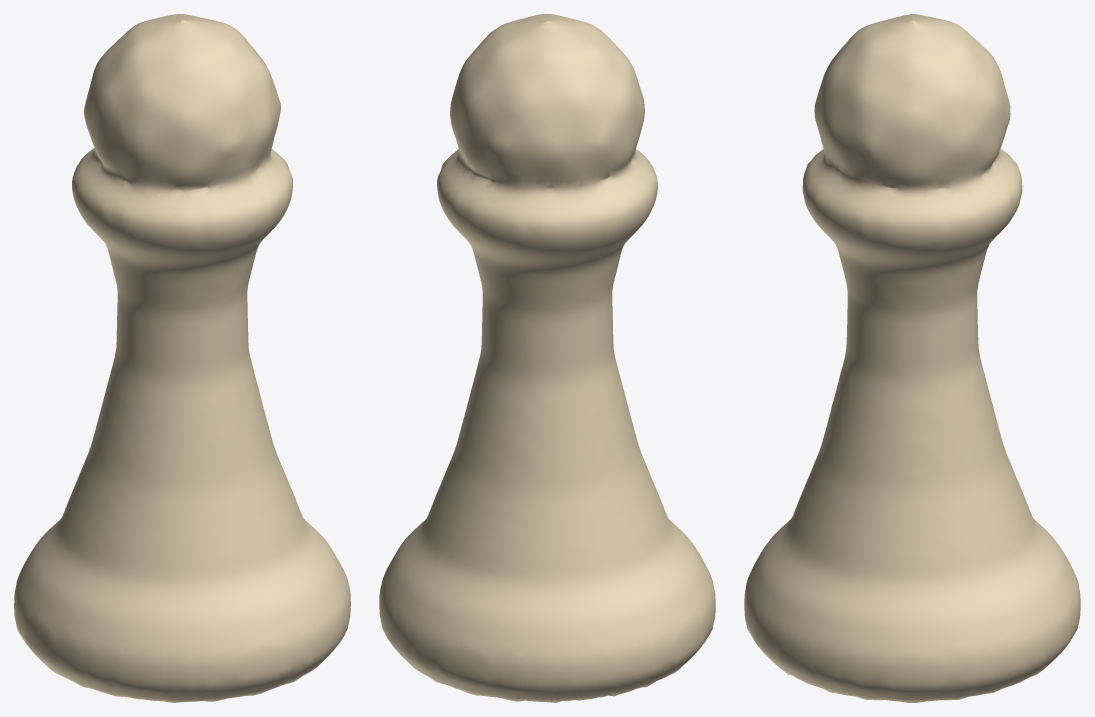
The model's file is KFB_ChessM_pawn_light.r1.glb.
The picture shows the model from 3 angles, left to right: view 1: azimuth 30°, elevation 25°; view 2: azimuth 150°, elevation 25°; view 3: azimuth 270°, elevation 25°; orthographic projection.
Parts seen in each view (by area): view 1: KFB_ChessM_pawn_light; view 2: KFB_ChessM_pawn_light; view 3: KFB_ChessM_pawn_light.
Boxes of the visible parts, bbox=[...] form: KFB_ChessM_pawn_light: bbox=[14, 14, 350, 702]; KFB_ChessM_pawn_light: bbox=[379, 14, 715, 702]; KFB_ChessM_pawn_light: bbox=[744, 14, 1080, 702].
Size of the model in its own units: 1.45 by 2.94 by 1.45.
